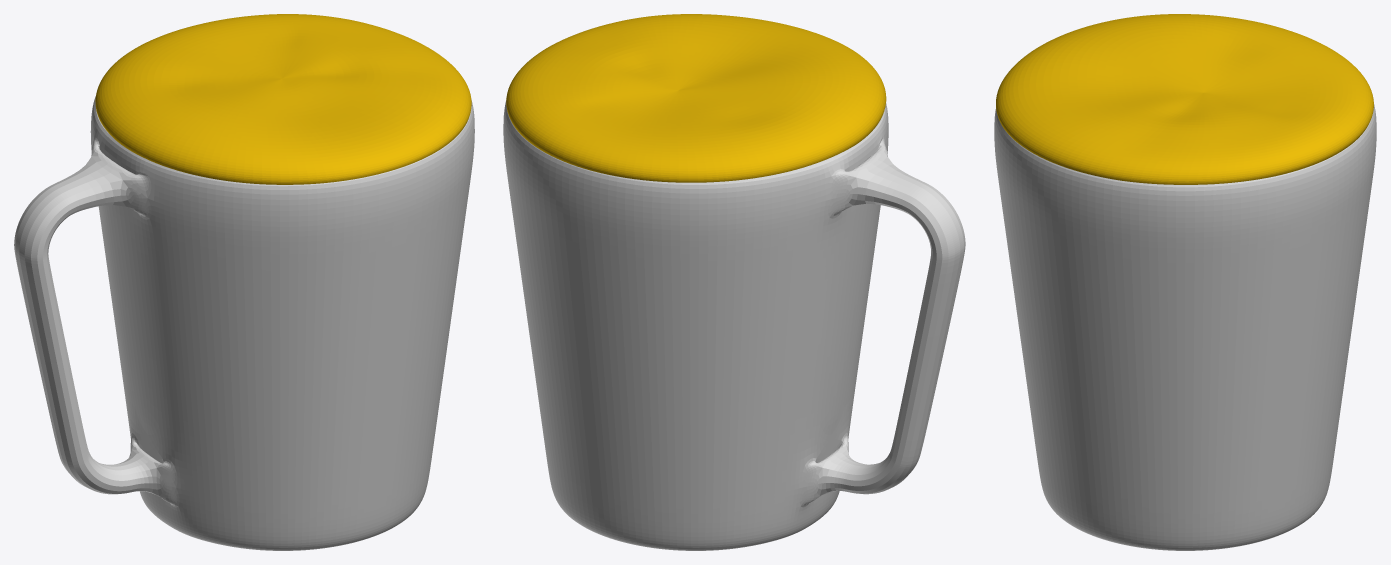
File: beer.gltf
3 views of the same model, side by side, from view 1: azimuth 30°, elevation 25°; view 2: azimuth 150°, elevation 25°; view 3: azimuth 270°, elevation 25° (orthographic).
Visible parts, largest first — view 1: Cylinder.001, Sphere; view 2: Cylinder.001, Sphere; view 3: Cylinder.001, Sphere.
Boxes of the visible parts, bbox=[...] form: Cylinder.001: bbox=[14, 96, 474, 550]; Sphere: bbox=[95, 14, 471, 184]; Cylinder.001: bbox=[503, 100, 965, 550]; Sphere: bbox=[506, 14, 886, 182]; Cylinder.001: bbox=[994, 104, 1376, 550]; Sphere: bbox=[996, 14, 1373, 184].
Size of the model in its own units: 2.55 by 2.39 by 1.97.
